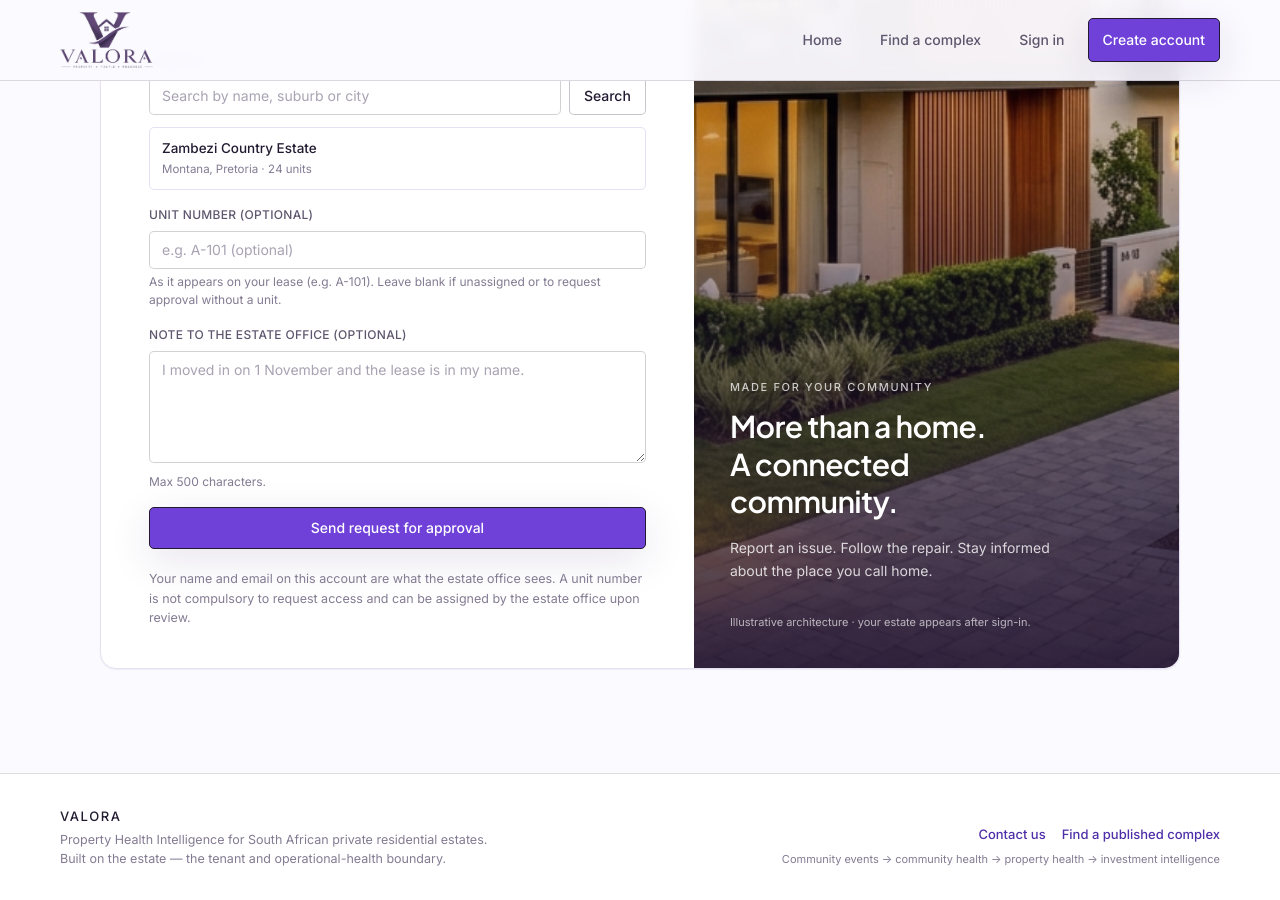
Scenario: RequestAccess › requires a complex before spending a request, but never requires a unit
(page scrolled)
Click the button "Send request for approval". click: [397, 528]
box: left=149, top=507, right=646, bottom=549
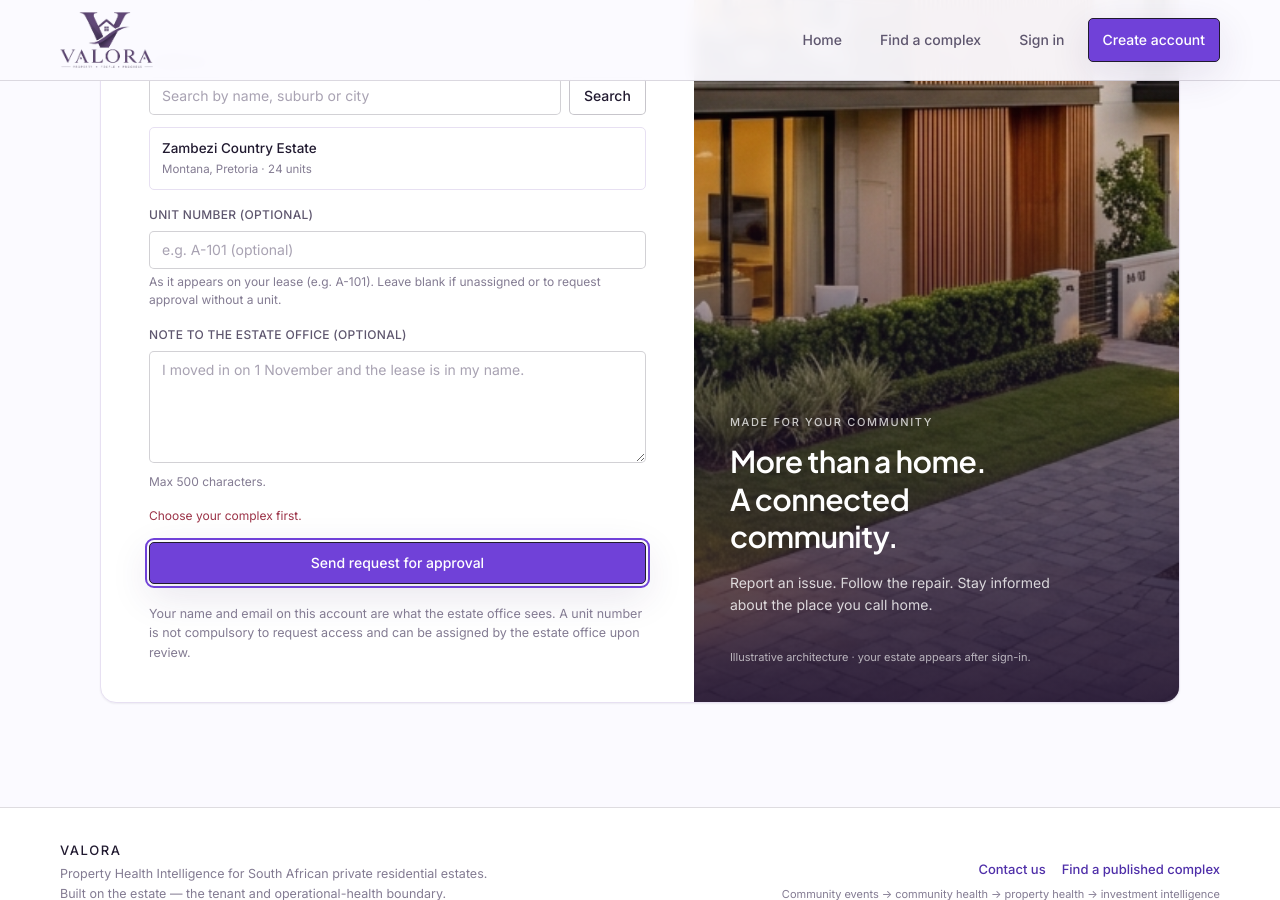
expect the field labelled "Unit number (optional)" is shown: met, box left=149, top=231, right=646, bottom=269
expect the text "Choose your complex first." is shown: met, box left=149, top=508, right=302, bottom=523
